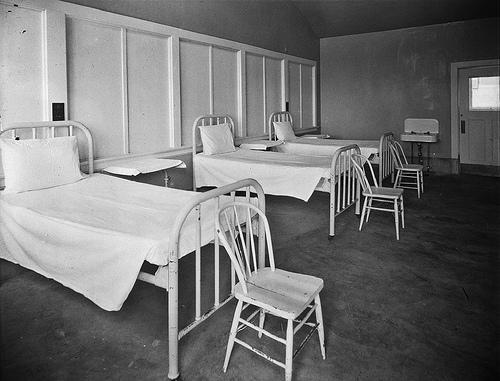Lavamanos: (397, 115, 442, 141)
